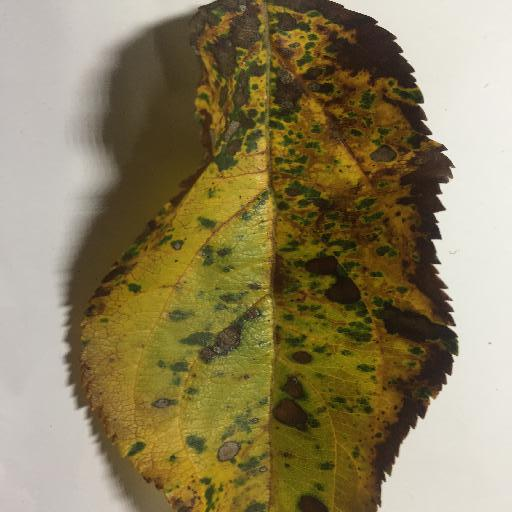Brown_Spot: (21, 3, 512, 512)
